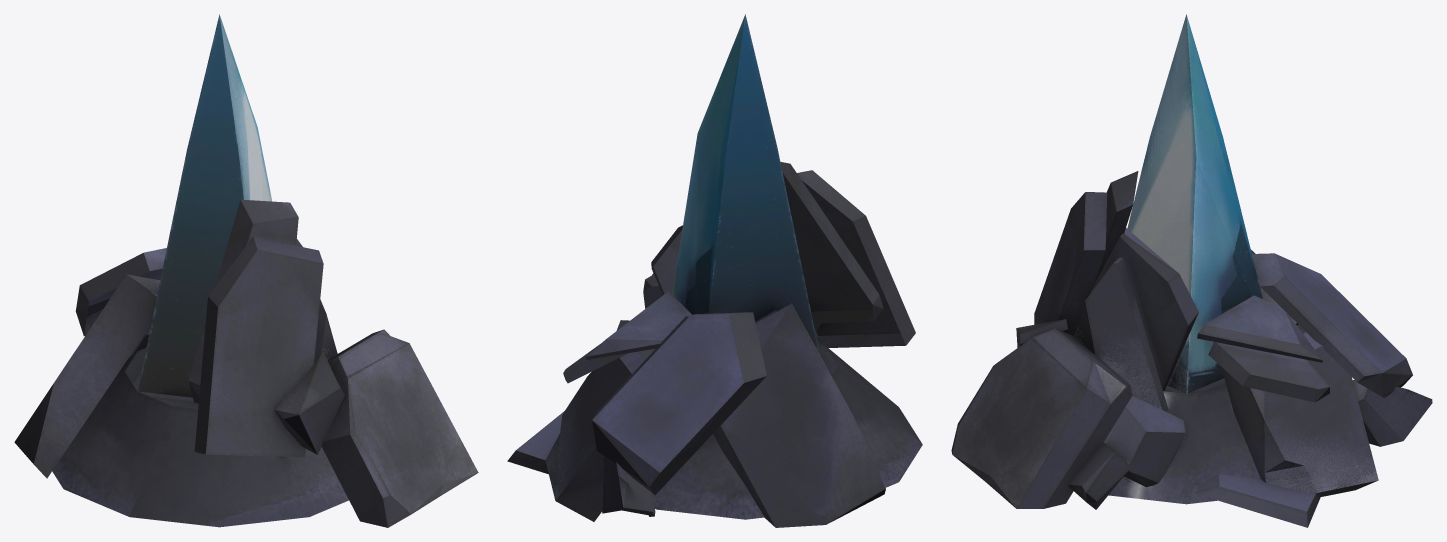
Rendered from trap_010_frosts.glb.
The picture shows the model from 3 angles, left to right: view 1: azimuth 30°, elevation 25°; view 2: azimuth 150°, elevation 25°; view 3: azimuth 270°, elevation 25°; orthographic projection. The views are drawn at different scales.
Parts seen in each view (by area): view 1: S_icer; view 2: S_icer; view 3: S_icer.
Part boxes in pixels (x1,y1,x2,y2): S_icer: (14, 14, 478, 527); S_icer: (507, 14, 922, 527); S_icer: (951, 14, 1432, 527).
Size of the model in its own units: 0.7218 by 0.9397 by 0.9188.
1 material, 1 textured.
